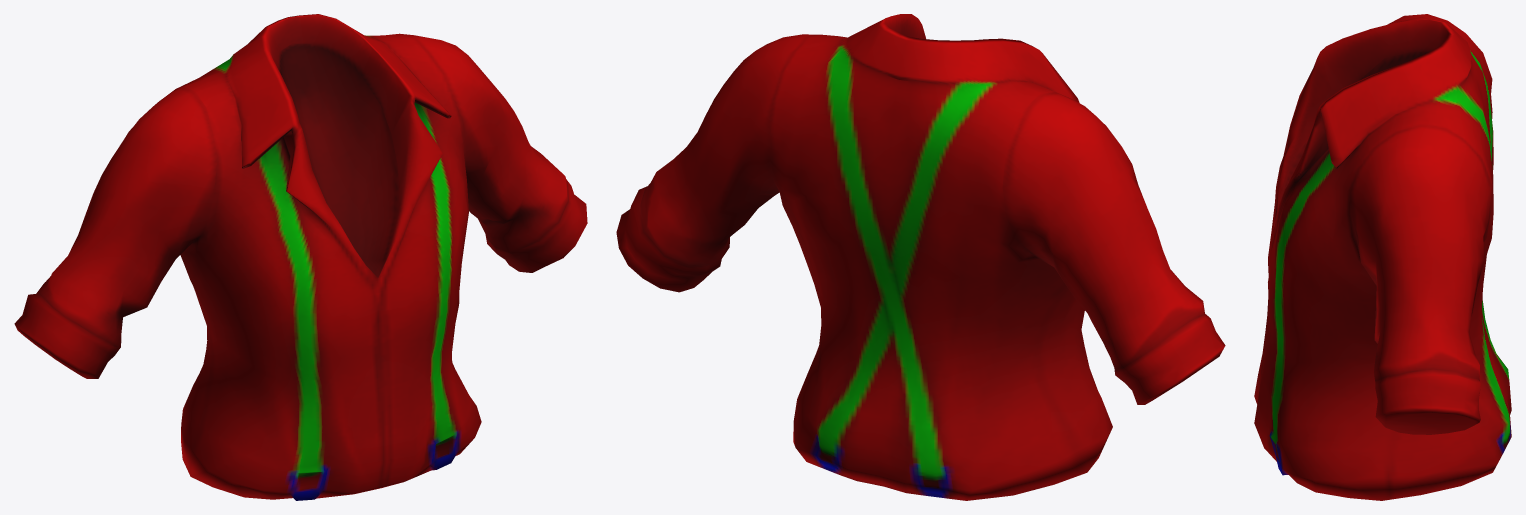
Rendered from Top_Suspenders.obj.
3 views of the same model, side by side, from view 1: azimuth 30°, elevation 25°; view 2: azimuth 150°, elevation 25°; view 3: azimuth 270°, elevation 25° (orthographic). The views are drawn at different scales.
Parts seen in each view (by area): view 1: Top_Suspenders_0; view 2: Top_Suspenders_0; view 3: Top_Suspenders_0.
Boxes of the visible parts, <box> form: Top_Suspenders_0: <box>14,14,587,500</box>; Top_Suspenders_0: <box>616,14,1225,500</box>; Top_Suspenders_0: <box>1254,14,1511,500</box>.
Bounding box in the file's own units: 0.6309 × 0.442 × 0.2538.
Materials: 1 (1 with a texture image).
